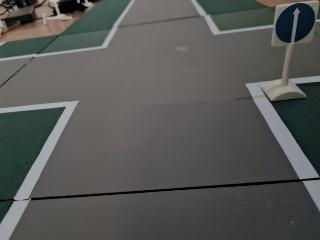straight: (270, 0, 320, 50)
